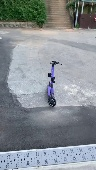beam: (46, 58, 60, 108)
